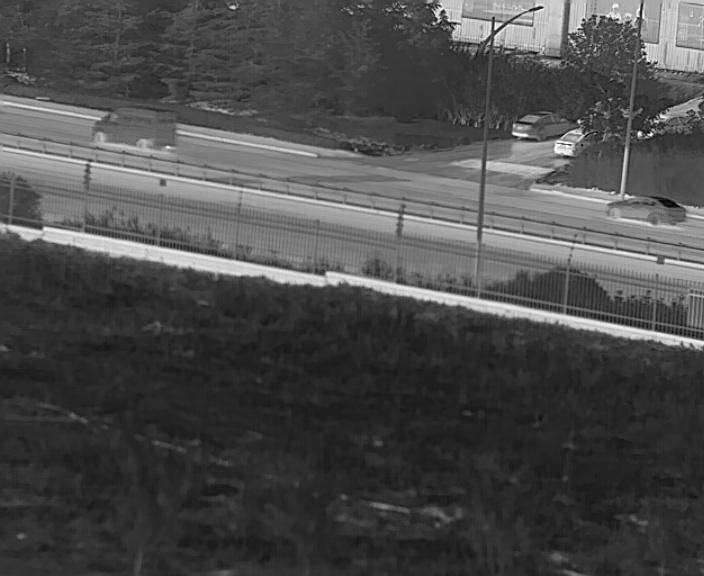vehicle: (92, 108, 175, 150), (604, 194, 685, 226), (512, 111, 557, 141), (552, 128, 588, 157)
